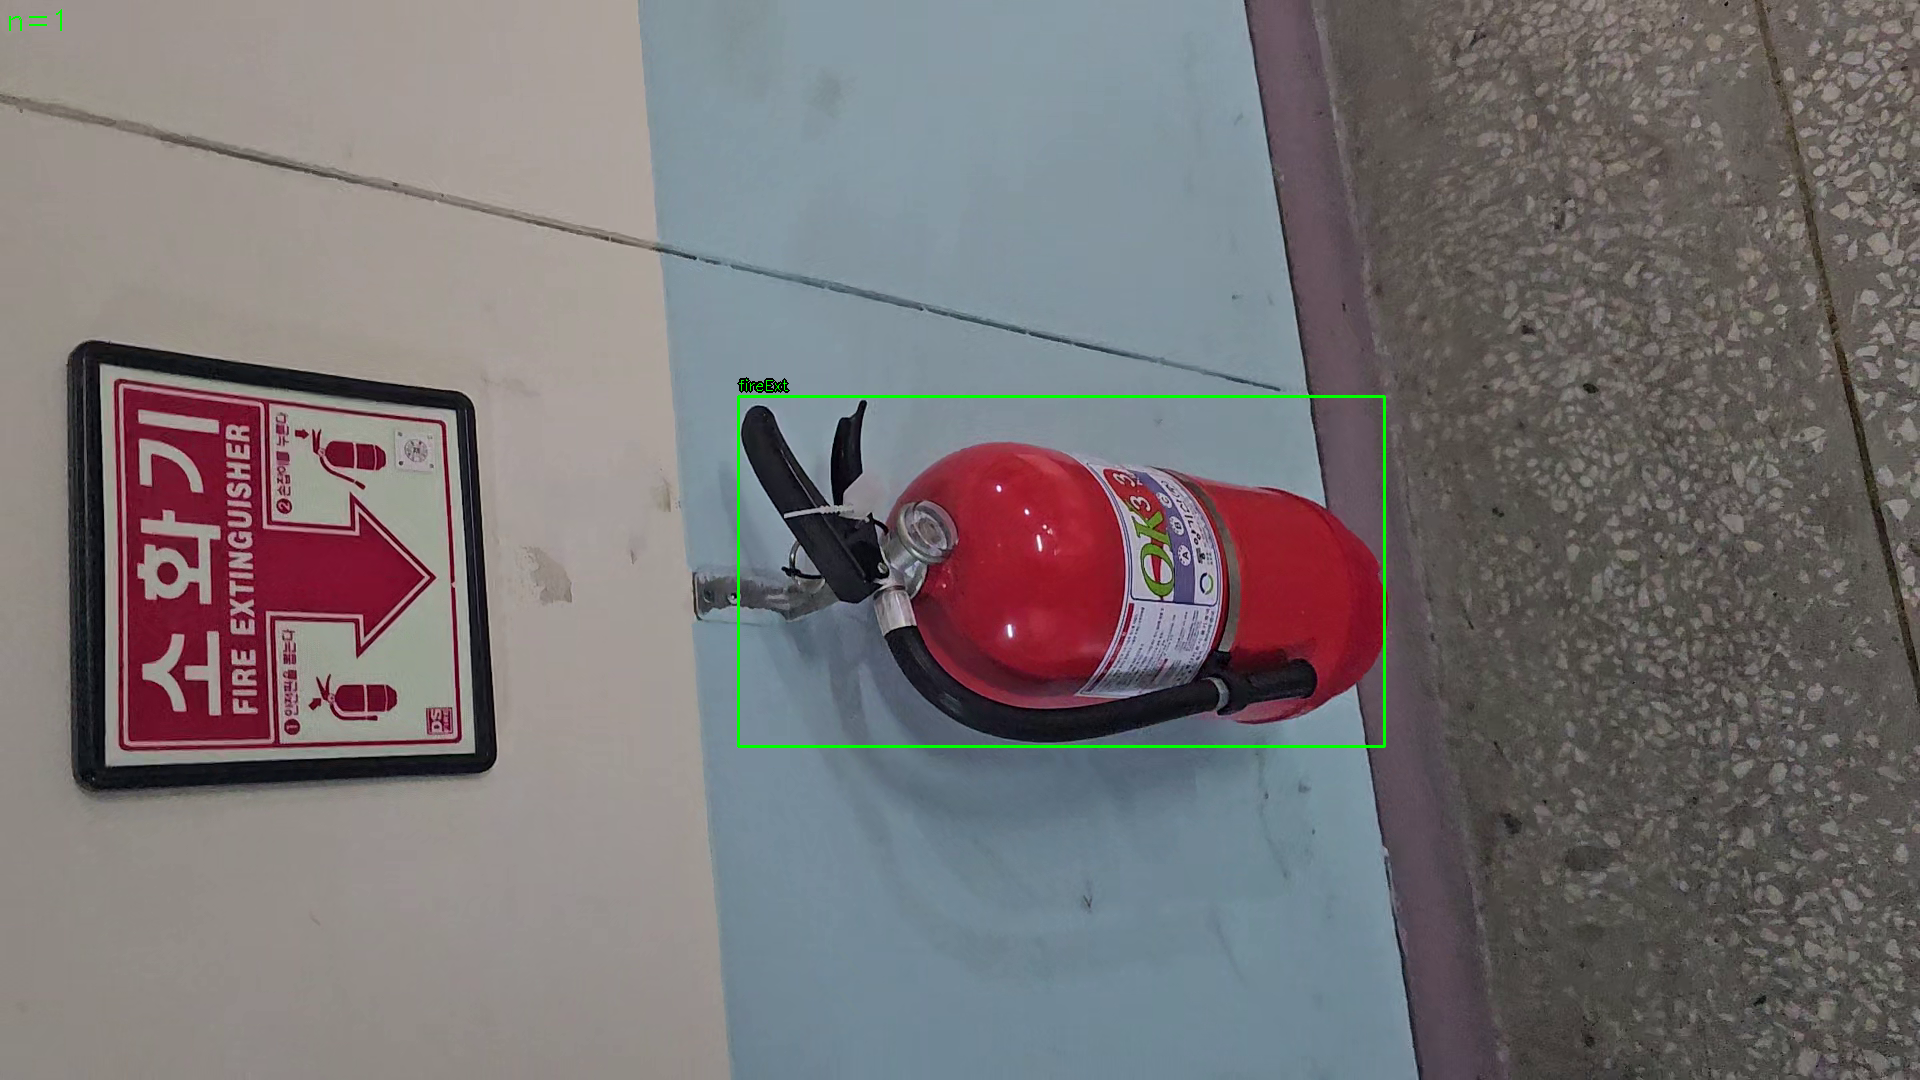lane: (738, 396, 1385, 746)
